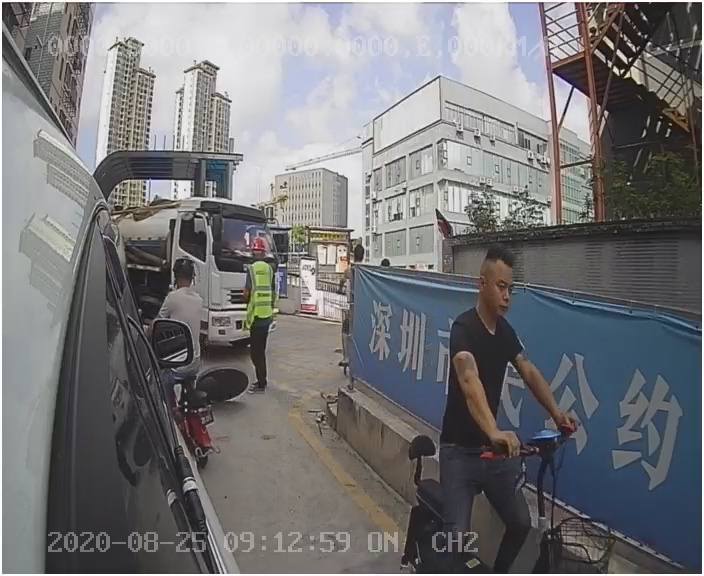person: (238, 236, 283, 392)
